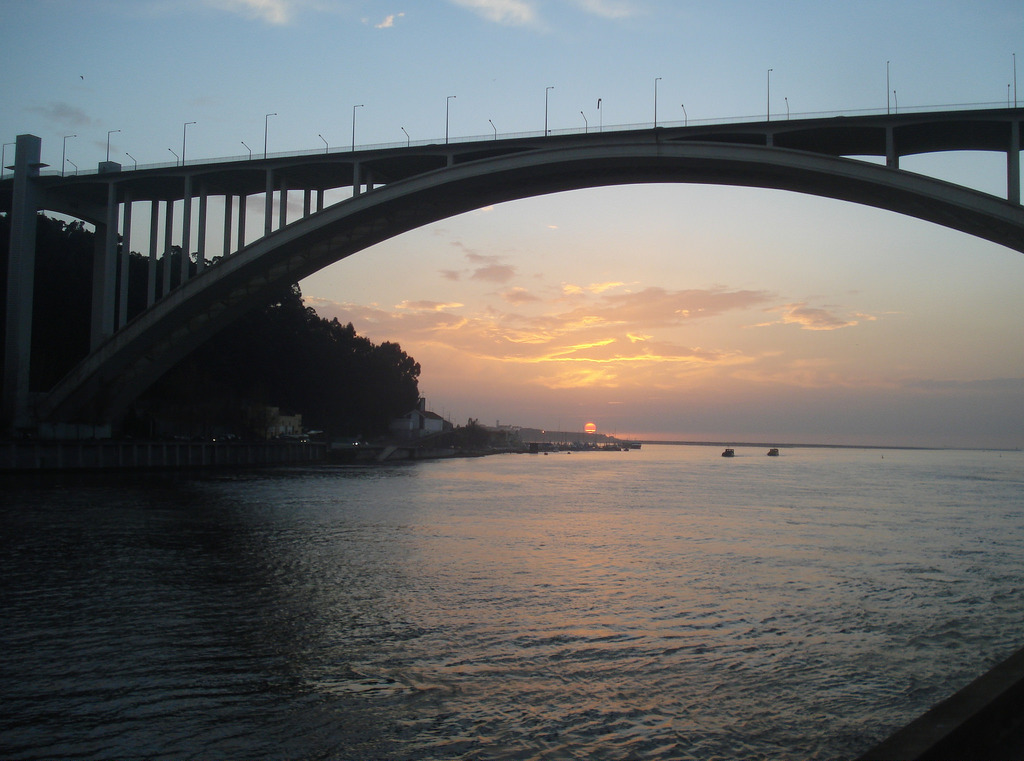arrabida: (0, 103, 1023, 446)
